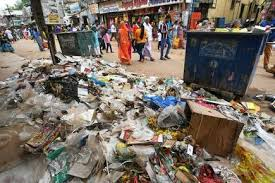garbage: (98, 98, 271, 183), (66, 80, 193, 183), (27, 58, 112, 136)
